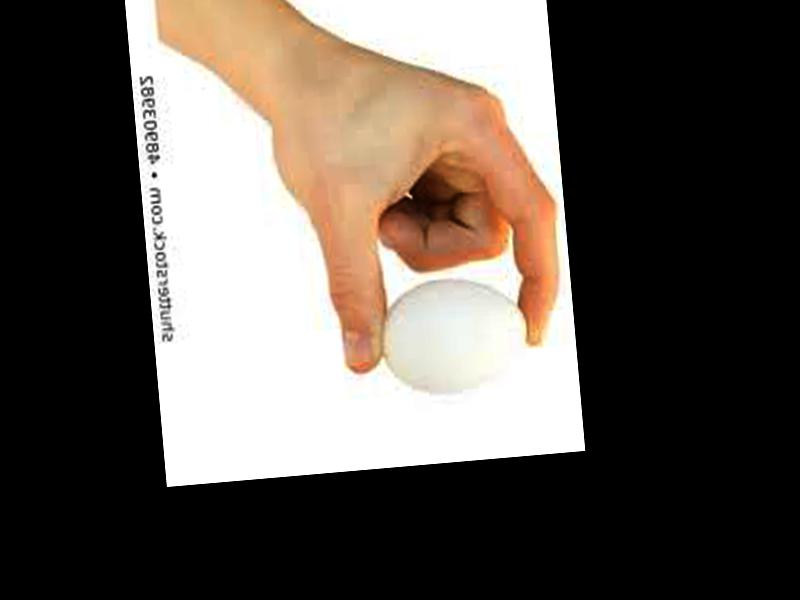Eggs: (375, 272, 530, 396)
